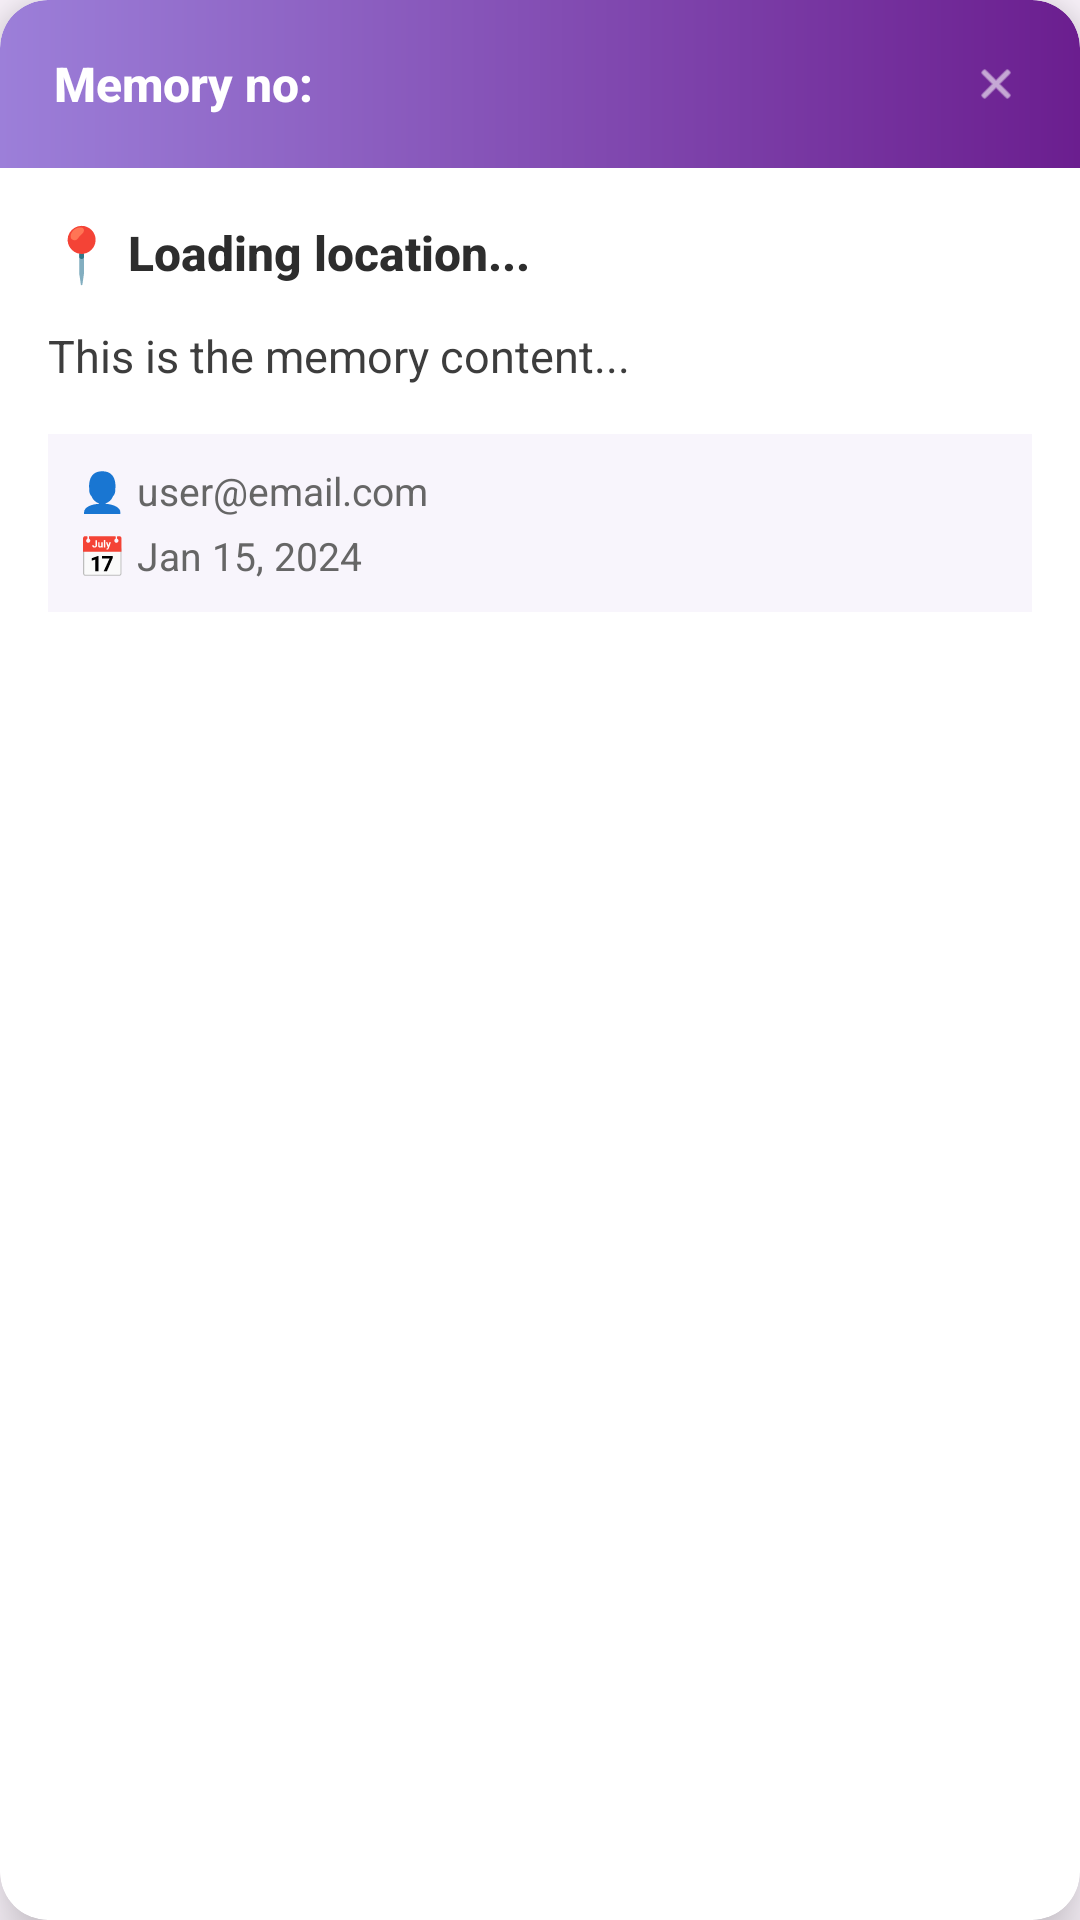

Where icons sit on this 1080 × 1920 app screen, as [x1, y1, x2, y2]:
Close: [981, 69, 1011, 99]
